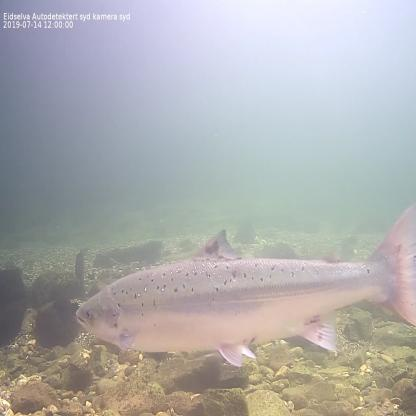salmon: (73, 203, 416, 368)
